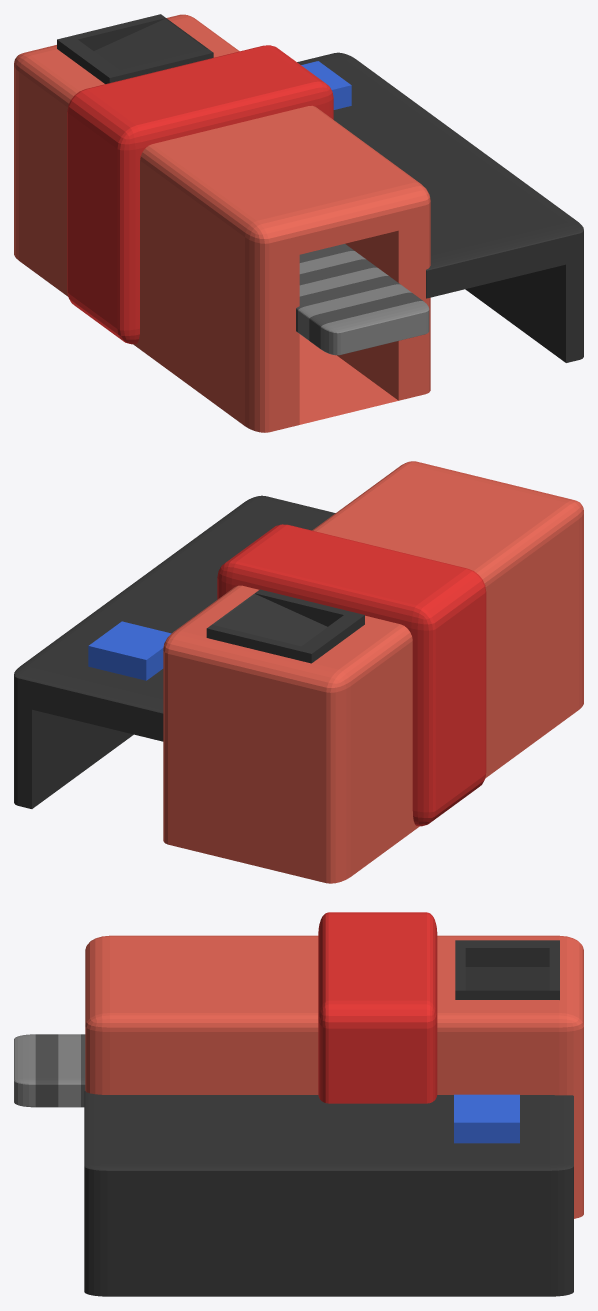
Rendered from Machine Station_Animation24 Dec.fbx.
3 views of the same model, one above another, from view 1: azimuth 30°, elevation 25°; view 2: azimuth 150°, elevation 25°; view 3: azimuth 270°, elevation 25° (orthographic).
Parts seen in each view (by area): view 1: Cube.044, Cube.047, Cube.043, Cube.046, Cube.045, Cube.048; view 2: Cube.044, Cube.043, Cube.047, Cube.045, Cube.048; view 3: Cube.047, Cube.044, Cube.043, Cube.045, Cube.046, Cube.048.
Part boxes in pixels (x1=…): Cube.044: x1=14, y1=14, x2=430, y2=432; Cube.047: x1=297, y1=52, x2=583, y2=362; Cube.043: x1=67, y1=45, x2=333, y2=344; Cube.046: x1=296, y1=244, x2=429, y2=355; Cube.045: x1=57, y1=14, x2=213, y2=83; Cube.048: x1=301, y1=61, x2=351, y2=109; Cube.044: x1=163, y1=461, x2=583, y2=883; Cube.043: x1=217, y1=524, x2=486, y2=826; Cube.047: x1=14, y1=495, x2=335, y2=808; Cube.045: x1=206, y1=589, x2=364, y2=663; Cube.048: x1=88, y1=621, x2=171, y2=680; Cube.047: x1=84, y1=1091, x2=573, y2=1296; Cube.044: x1=85, y1=935, x2=583, y2=1218; Cube.043: x1=318, y1=912, x2=437, y2=1103; Cube.045: x1=455, y1=940, x2=559, y2=999; Cube.046: x1=14, y1=1034, x2=85, y2=1107; Cube.048: x1=454, y1=1094, x2=519, y2=1143.
Size of the model in its own units: 325 by 197 by 460.
